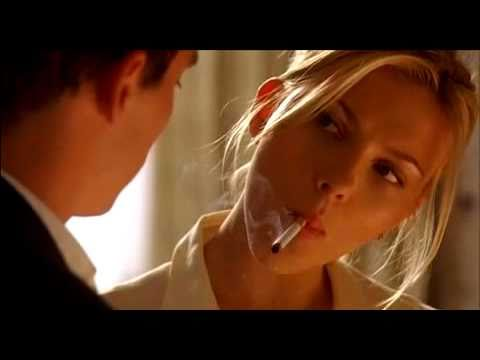cigarette: (264, 204, 312, 259)
